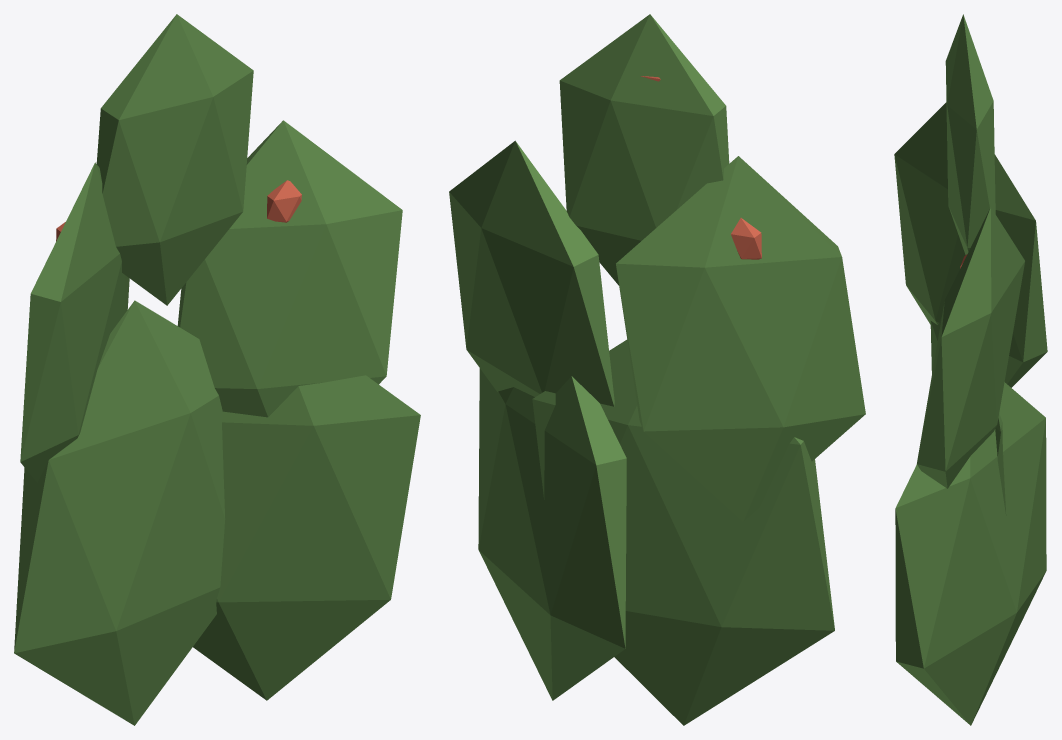
File: desert_opuntia_v31.glb
3 views of the same model, side by side, from view 1: azimuth 30°, elevation 25°; view 2: azimuth 150°, elevation 25°; view 3: azimuth 270°, elevation 25° (orthographic). The views are drawn at different scales.
Visible parts, largest first — view 1: desert_opuntia; view 2: desert_opuntia; view 3: desert_opuntia.
Part boxes in pixels (<box>): desert_opuntia: <box>14,14,420,725</box>; desert_opuntia: <box>449,14,865,725</box>; desert_opuntia: <box>894,14,1047,725</box>.
Bounding box in the file's own units: 1.18 × 2.01 × 0.4175.
